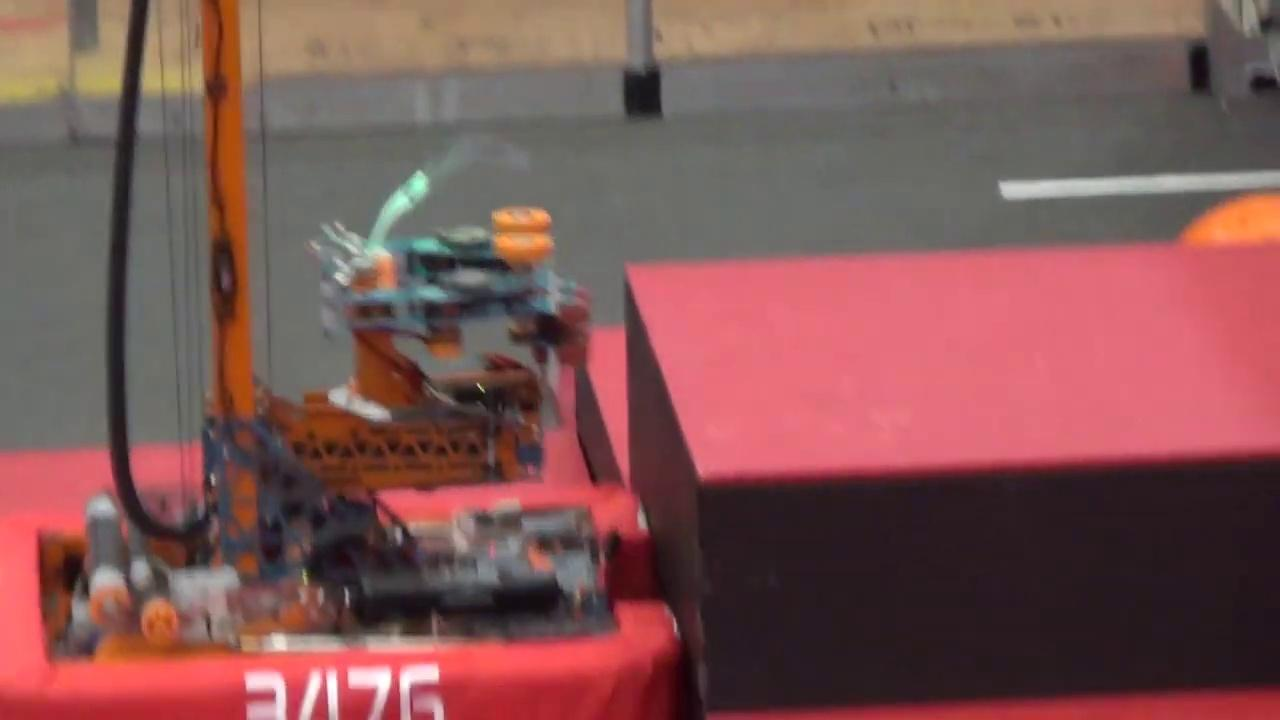robot: (1, 0, 683, 720)
